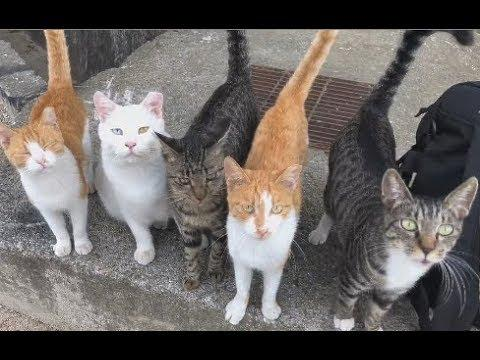cats: (333, 34, 477, 332), (229, 33, 333, 326), (3, 29, 96, 261), (164, 29, 236, 284), (91, 75, 169, 265)
